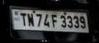3: (66, 15, 74, 29), (73, 15, 80, 29), (60, 15, 67, 28)
4: (43, 13, 51, 28)
7: (35, 13, 43, 28)
9: (79, 15, 86, 29)
F: (50, 14, 58, 28)
N: (27, 13, 35, 28)
T: (20, 12, 27, 27)
